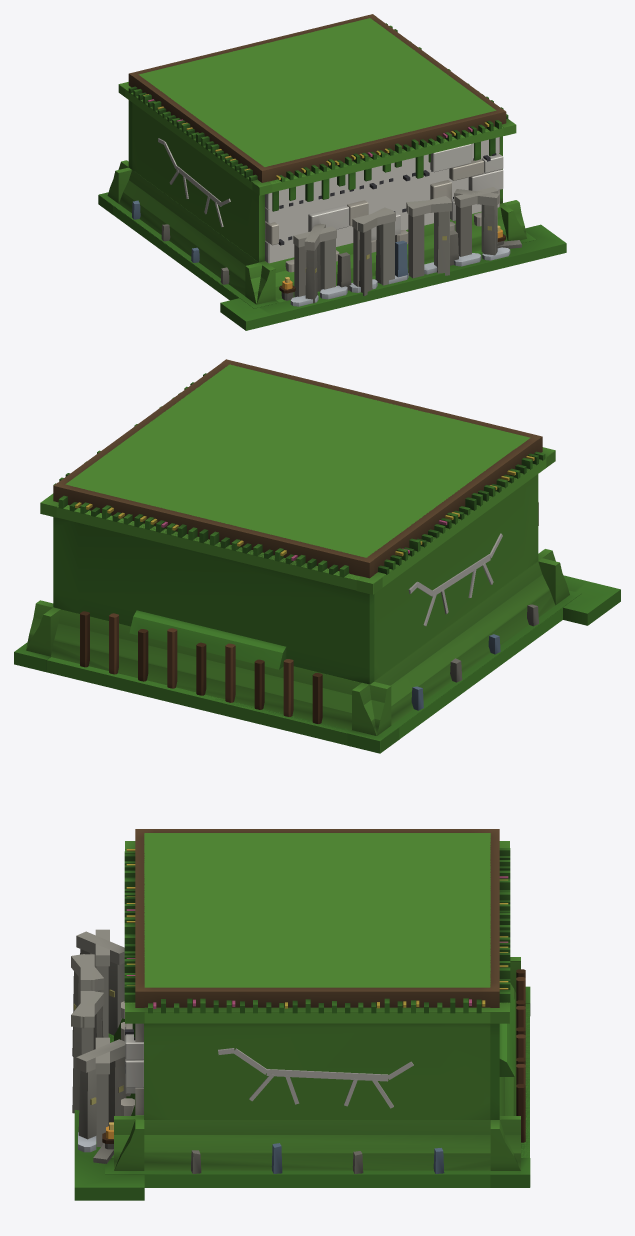
File: MiniStonehengeFloor.fbx
The picture shows the model from 3 angles, top to bottom: view 1: azimuth 30°, elevation 25°; view 2: azimuth 150°, elevation 25°; view 3: azimuth 270°, elevation 25°; orthographic projection. The views are drawn at different scales.
Parts seen in each view (by area): view 1: MS_S_All, MS_F_Quiet, MS_F_Rings, MS_F_Smooth, MS_F_Props; view 2: MS_F_Quiet, MS_S_All, MS_F_Smooth, MS_F_Rings, MS_F_Props; view 3: MS_S_All, MS_F_Quiet, MS_F_Rings, MS_F_Smooth, MS_F_Props.
Part boxes in pixels (<box>): MS_S_All: <box>113,18,503,303</box>; MS_F_Quiet: <box>98,82,566,330</box>; MS_F_Rings: <box>128,14,506,303</box>; MS_F_Smooth: <box>115,23,518,300</box>; MS_F_Props: <box>132,189,521,306</box>; MS_F_Quiet: <box>14,447,620,753</box>; MS_S_All: <box>47,364,569,753</box>; MS_F_Smooth: <box>36,373,559,723</box>; MS_F_Rings: <box>53,359,542,578</box>; MS_F_Props: <box>167,604,538,710</box>; MS_S_All: <box>80,833,529,1187</box>; MS_F_Quiet: <box>74,841,530,1200</box>; MS_F_Rings: <box>72,829,499,1140</box>; MS_F_Smooth: <box>102,848,525,1148</box>; MS_F_Props: <box>71,931,525,1173</box>.
Bounding box in the file's own units: 60 × 20 × 60.
